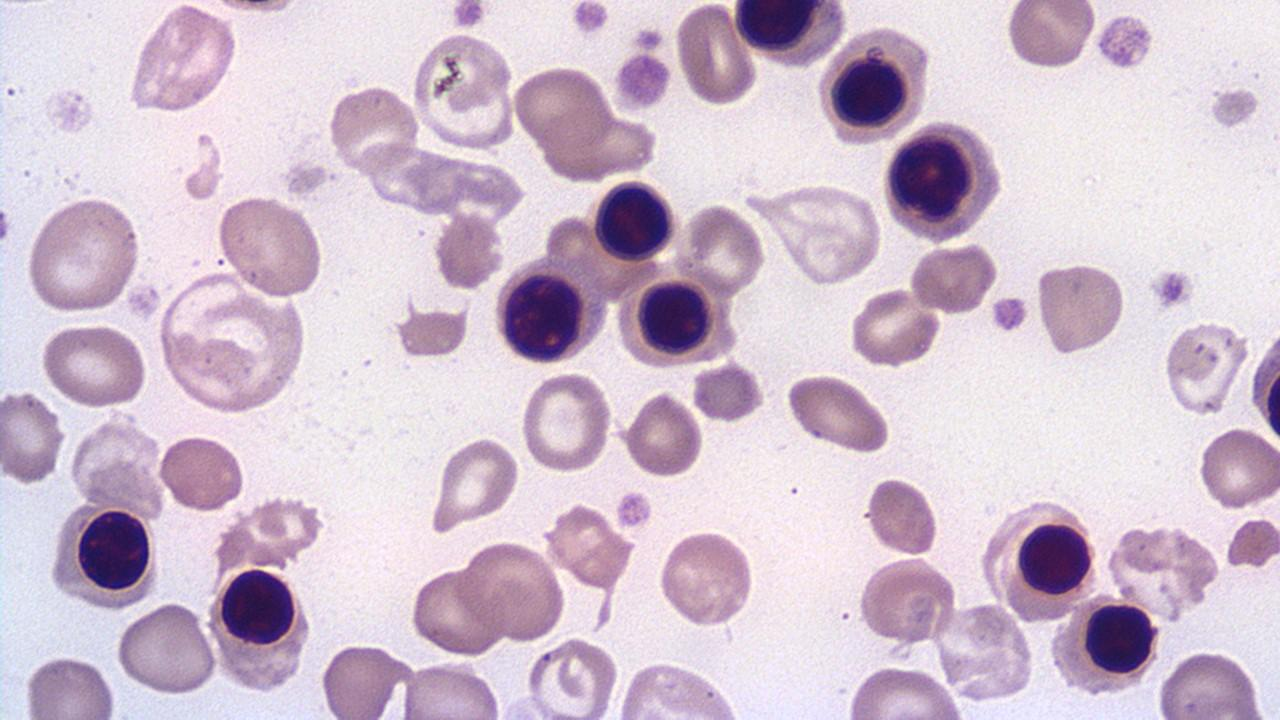Platelets: (906, 242, 998, 317), (1002, 3, 1096, 72), (1093, 14, 1157, 70), (612, 52, 673, 108), (1203, 84, 1265, 130), (1142, 263, 1198, 312), (988, 292, 1030, 335), (568, 1, 611, 38), (448, 2, 490, 30), (629, 25, 666, 53)
RBC: (163, 284, 315, 418), (880, 118, 1008, 243), (23, 194, 143, 317), (815, 24, 936, 145), (125, 3, 243, 115), (410, 31, 519, 150), (762, 183, 881, 288), (216, 193, 326, 299), (459, 540, 567, 642), (112, 602, 218, 700), (518, 369, 614, 476), (656, 526, 757, 627), (38, 320, 150, 410), (495, 266, 594, 366), (407, 564, 510, 656), (430, 432, 521, 535), (854, 555, 956, 646), (783, 370, 895, 452), (1038, 258, 1126, 359), (674, 202, 768, 296), (326, 83, 420, 175), (67, 418, 162, 509), (511, 63, 615, 146), (673, 4, 757, 105), (1162, 322, 1246, 416), (1153, 650, 1269, 718), (526, 636, 620, 718), (848, 286, 940, 368), (615, 659, 742, 718), (624, 388, 704, 480), (318, 640, 412, 718), (159, 431, 247, 514), (76, 504, 155, 596), (591, 176, 674, 263), (1198, 425, 1280, 512), (1016, 514, 1097, 600), (219, 564, 299, 648), (863, 474, 943, 558), (841, 664, 967, 716), (1004, 0, 1095, 72), (0, 386, 65, 486), (19, 652, 120, 716), (908, 242, 995, 316), (402, 657, 505, 717), (636, 276, 713, 356), (1082, 599, 1156, 680), (433, 212, 505, 292), (732, 0, 822, 56), (690, 360, 766, 424), (392, 304, 473, 362), (1250, 320, 1280, 455), (1226, 516, 1278, 572)
WBC: (29, 0, 1047, 720), (146, 235, 322, 460), (817, 23, 937, 145), (886, 123, 1010, 239), (126, 3, 244, 113)
